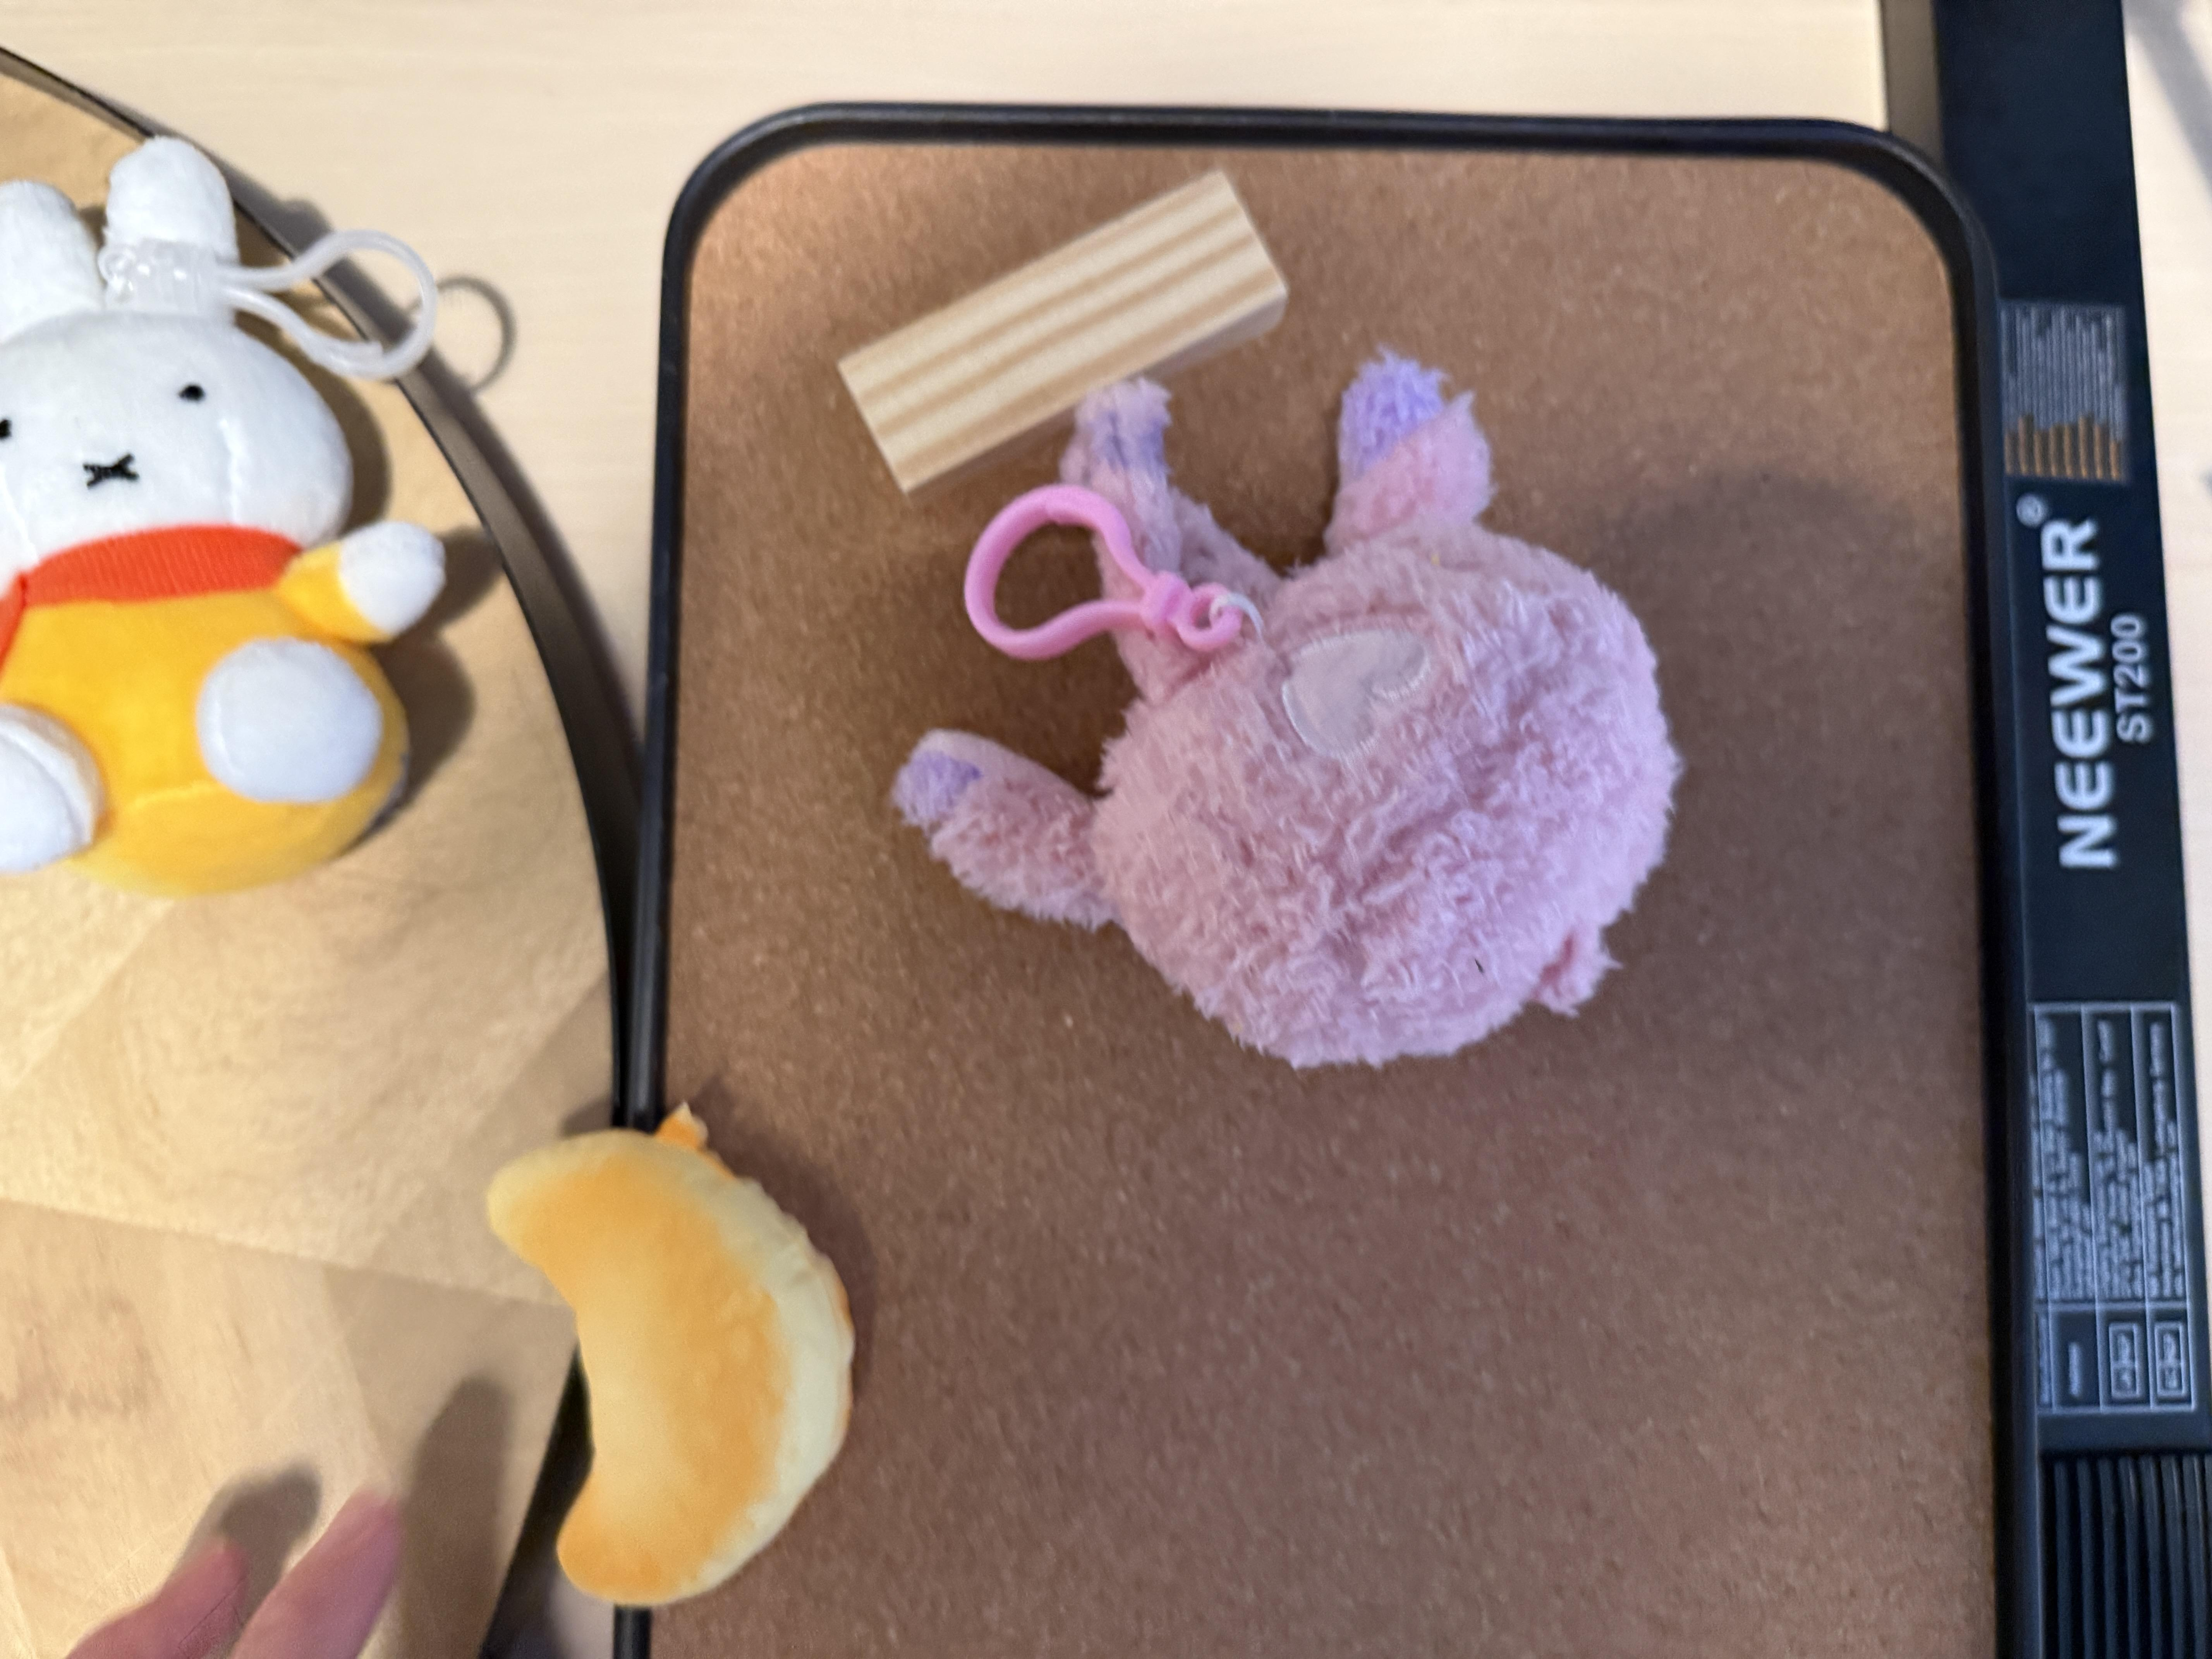block: (833, 171, 1285, 495)
bread: (484, 1105, 862, 1608)
doll: (888, 355, 1689, 1054), (0, 134, 448, 892)
